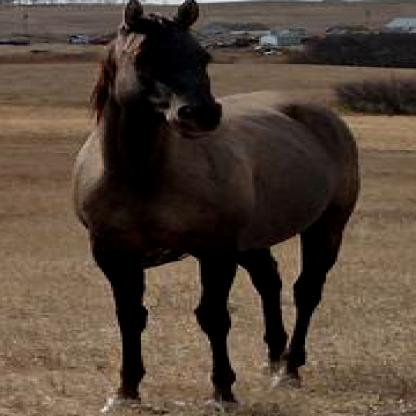horse: (71, 0, 363, 415)
